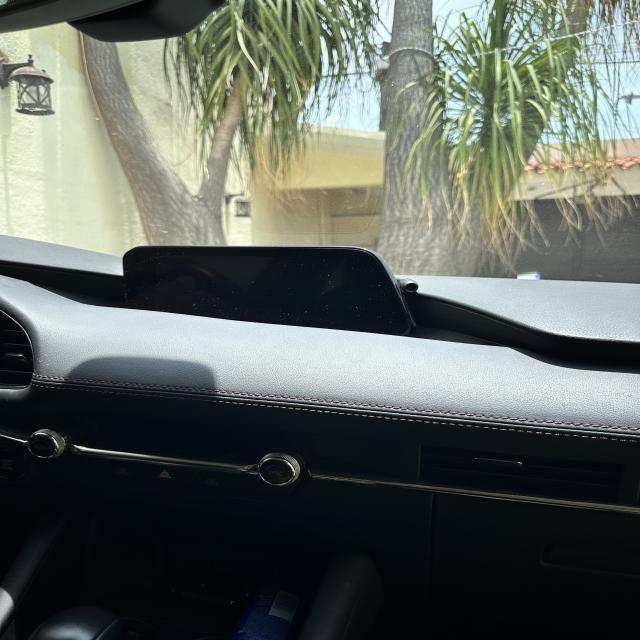hidden camera: (404, 281, 418, 293)
